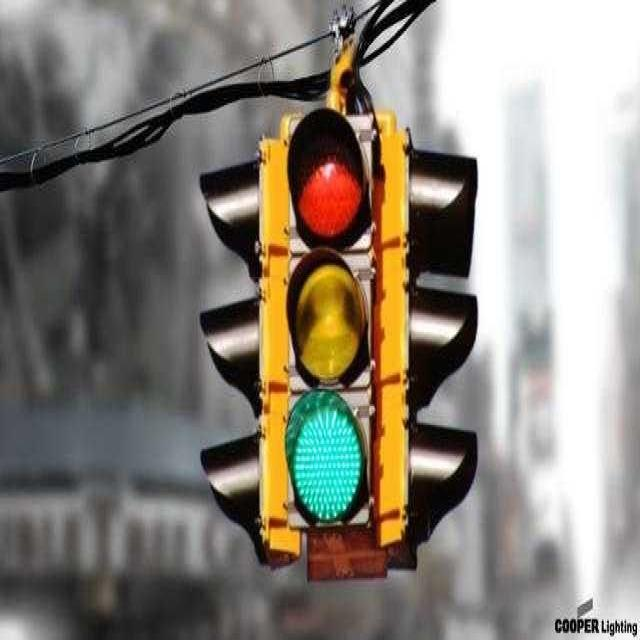Traffic Light -Green-: (278, 102, 391, 562)
